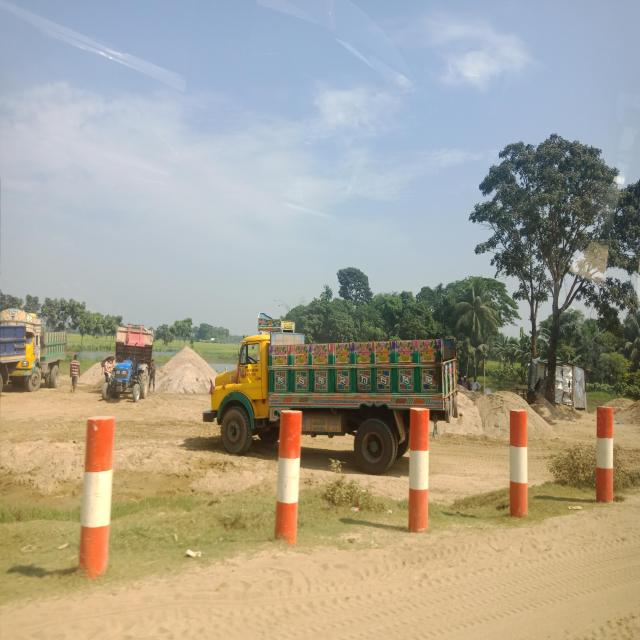truck: (198, 310, 464, 476), (2, 306, 70, 392), (99, 318, 161, 408)
